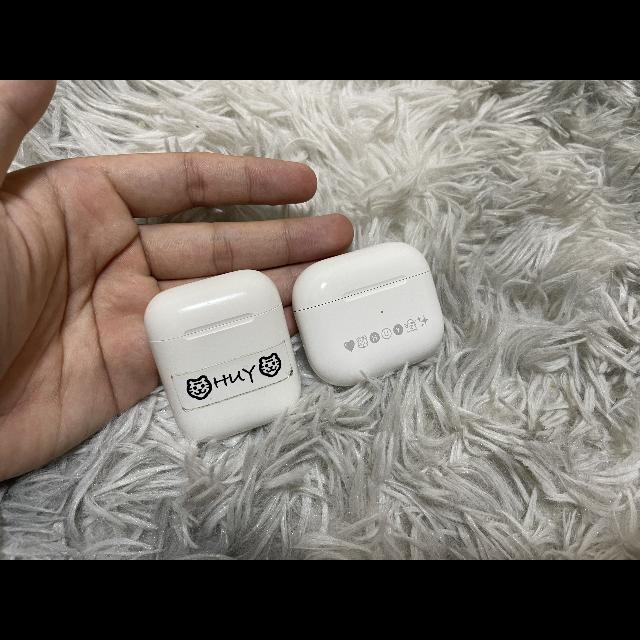airpod2: (134, 266, 306, 444)
airpod3: (290, 234, 452, 392)
